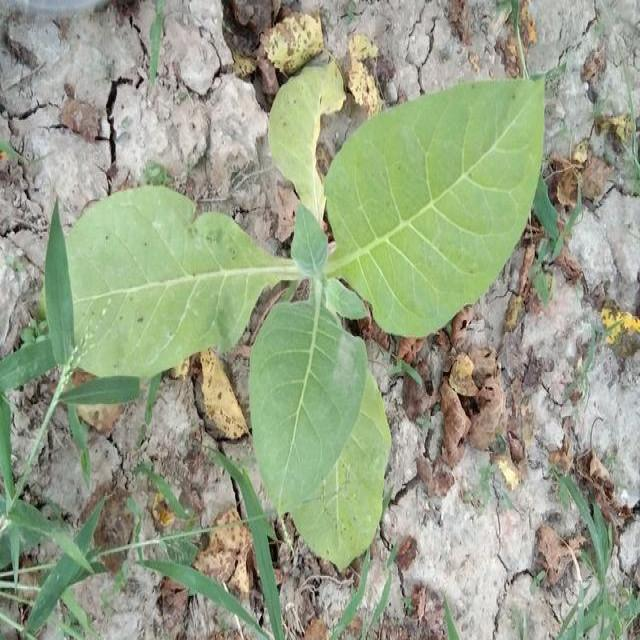crop: (274, 79, 554, 332), (64, 195, 288, 360), (266, 315, 384, 582)
